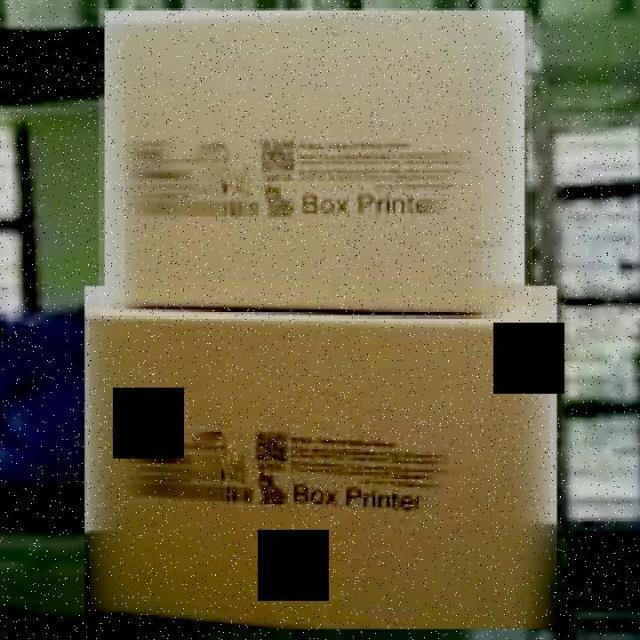box: (78, 282, 564, 638), (99, 8, 532, 318)
